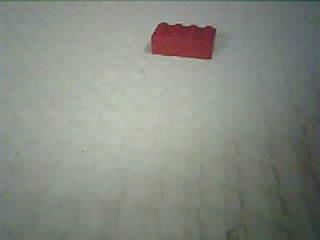lego: (149, 22, 216, 61)
